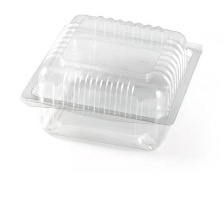plastic_box: (11, 6, 209, 157)
